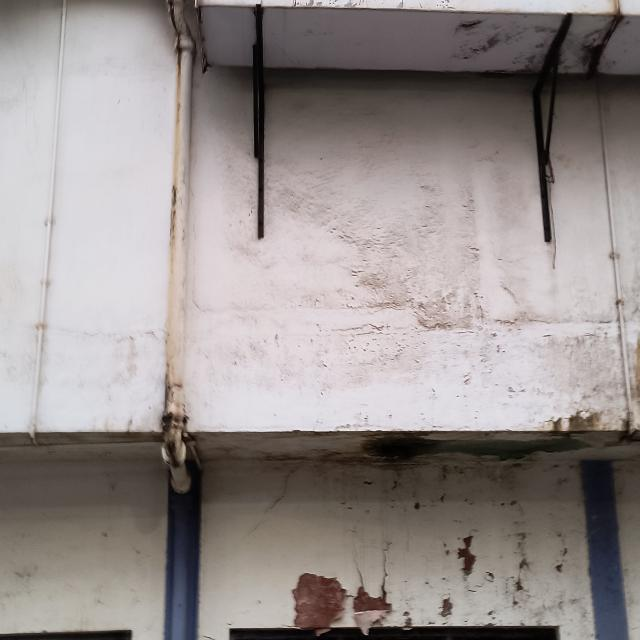Corrosion: (151, 24, 211, 522)
Corrosion stain: (247, 317, 636, 517), (263, 505, 576, 632)
